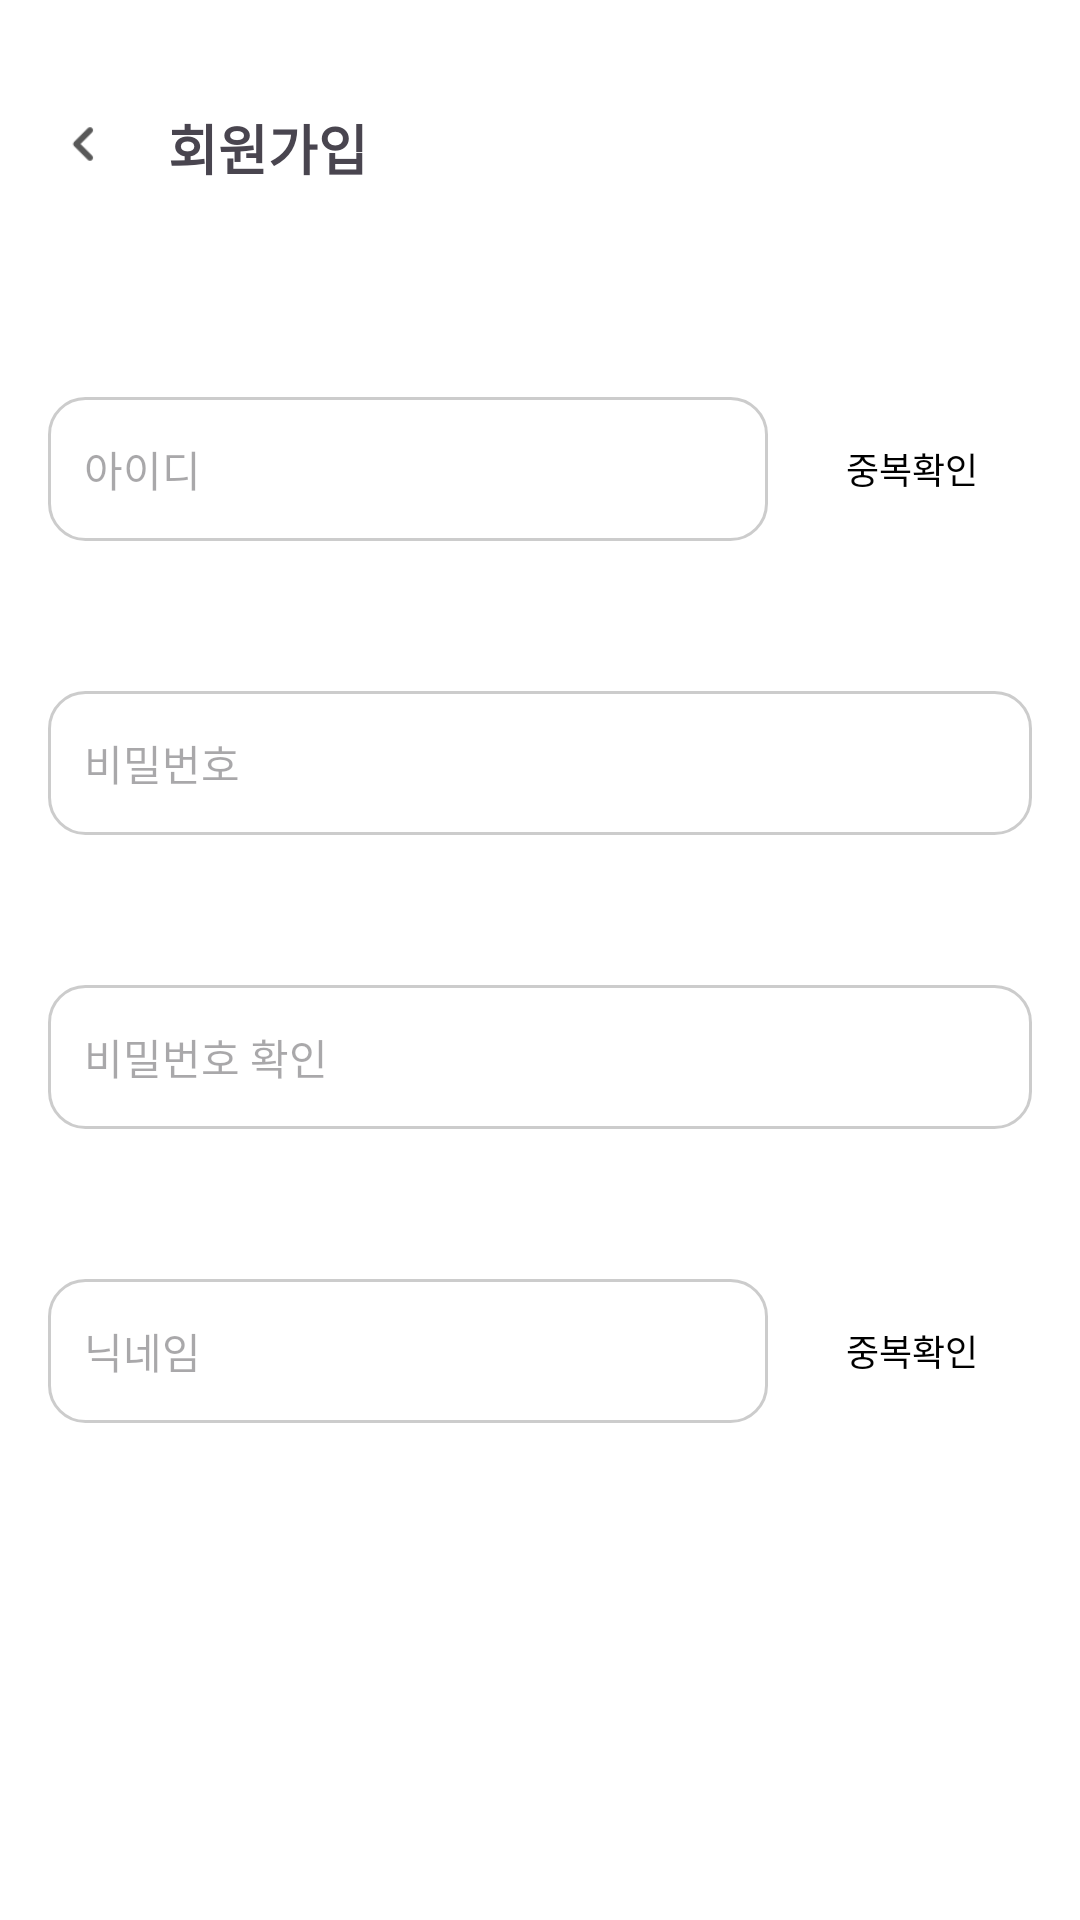

Icons on this 1080 x 1920 Android screen, each with the point to tap as (x=x, y=y):
back: (x=83, y=144)
